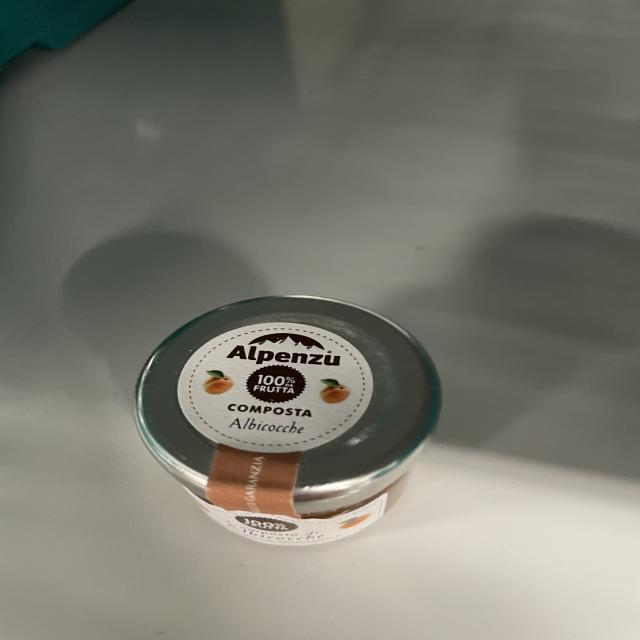object_name: (134, 303, 434, 549)
